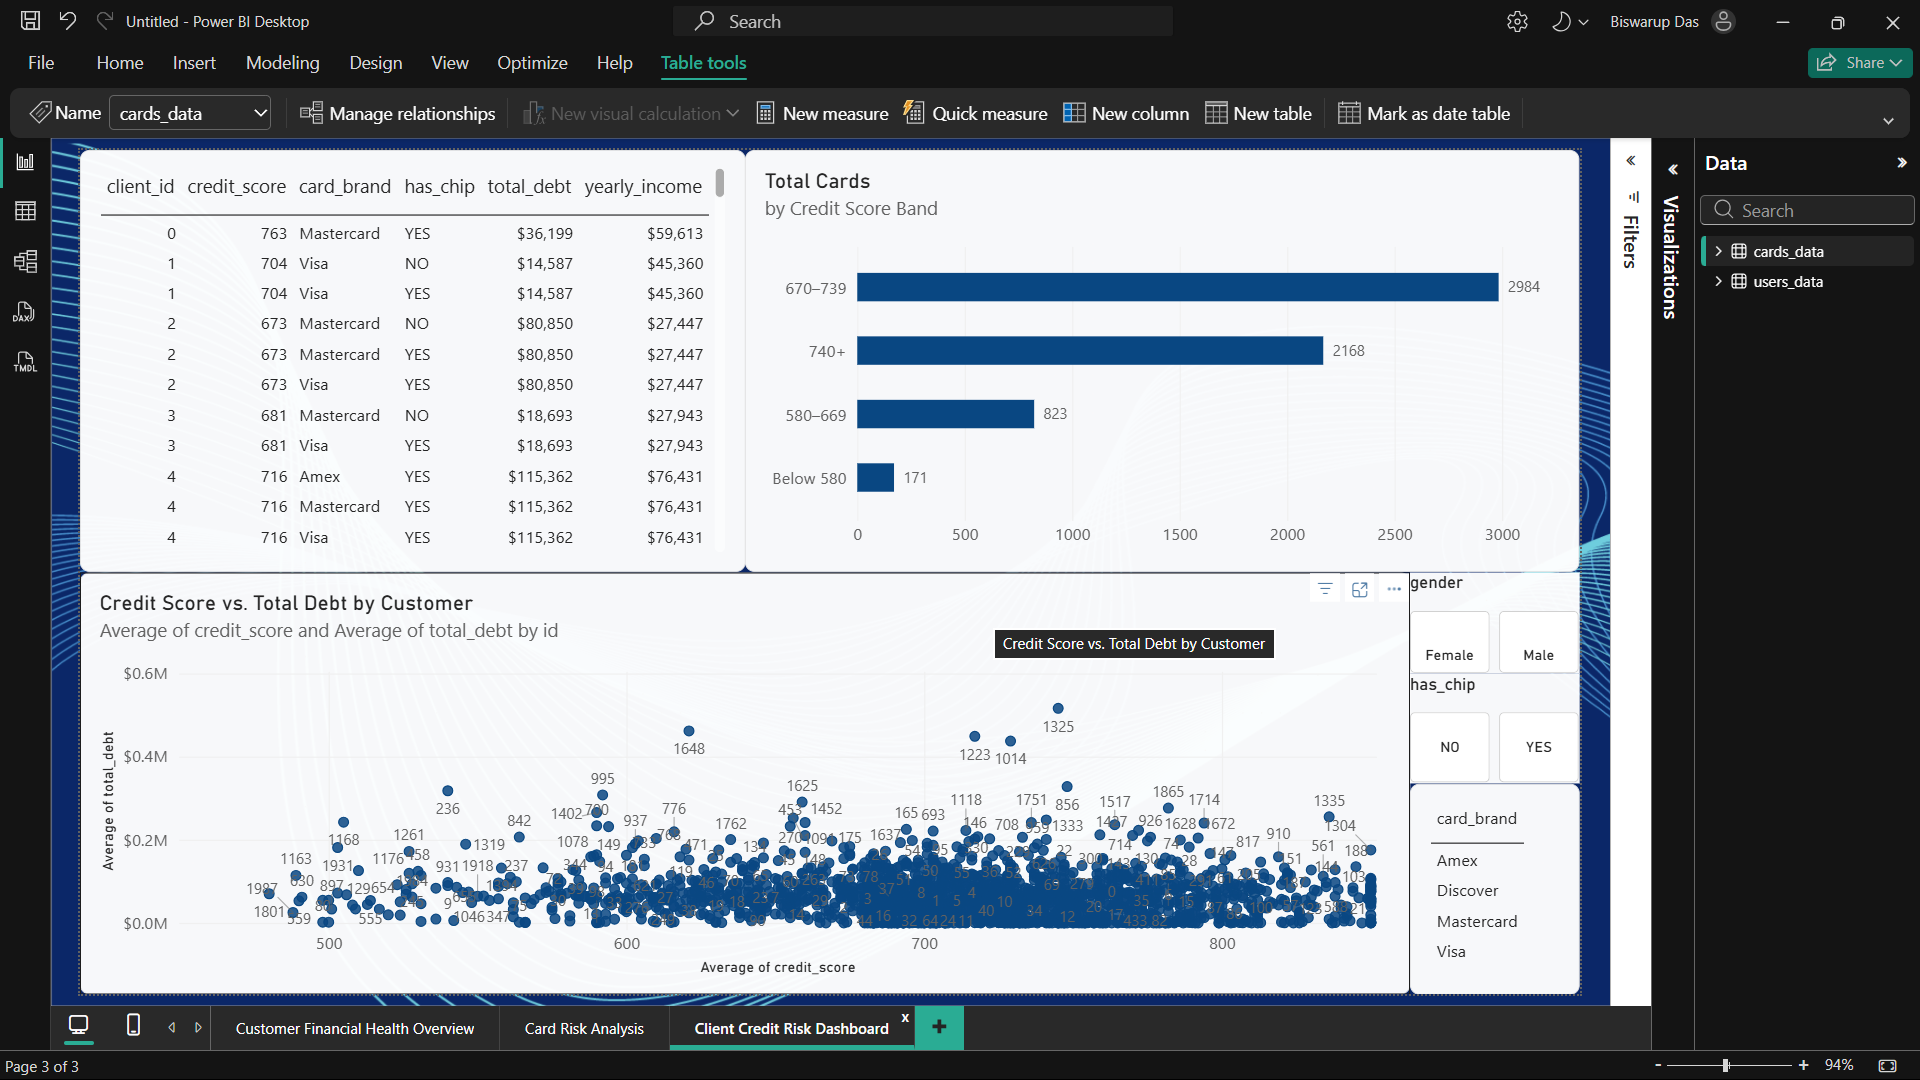

The page's visual inventory and layout, read from the dashboard file:
{"tool":"powerbi","page":{"name":"Client Credit Risk Dashboard","canvas":[1280,720],"ordinal":2},"visuals":[{"type":"scatterChart","title":"Credit Score vs. Total Debt by Customer","fields":{"Category":["users_data.id"],"X":["users_data.credit_score"],"Y":["users_data.total_debt"]},"box":[0,360.3,1135.4,360.3],"z":0},{"type":"tableEx","fields":{"Values":["cards_data.client_id","users_data.credit_score","cards_data.card_brand","cards_data.has_chip","users_data.total_debt","users_data.yearly_income"]},"box":[0,0,567.7,360.3],"z":1000},{"type":"clusteredBarChart","fields":{"Category":["users_data.Credit Score Band"],"Y":["cards_data.Total Cards"]},"box":[567.7,0,712.3,360.3],"z":2000},{"type":"advancedSlicerVisual","fields":{"Values":["users_data.gender"]},"box":[1135.4,360.3,144.6,86.5],"z":3000},{"type":"advancedSlicerVisual","fields":{"Values":["cards_data.has_chip"]},"box":[1135.4,446.8,144.6,93.6],"z":4000},{"type":"tableEx","fields":{"Values":["cards_data.card_brand"]},"box":[1135.4,540.4,144.6,180.1],"z":5000}]}

Visuals, with their boxes on the page's 1280x720 design canvas (x1, y1, x2, y2). These are canvas units, not pixel positions in the 1920x1080 screenshot, which may show the page scaled, cropped or inside an application window:
"Credit Score vs. Total Debt by Customer" scatterChart: select_region(0, 360, 1135, 721)
tableEx - cards_data.client_id x users_data.credit_score: select_region(0, 0, 568, 360)
clusteredBarChart - users_data.Credit Score Band x cards_data.Total Cards: select_region(568, 0, 1280, 360)
advancedSlicerVisual - users_data.gender: select_region(1135, 360, 1280, 447)
advancedSlicerVisual - cards_data.has_chip: select_region(1135, 447, 1280, 540)
tableEx - cards_data.card_brand: select_region(1135, 540, 1280, 720)
